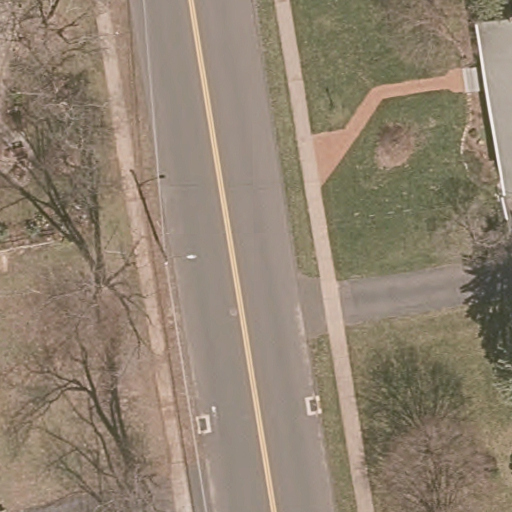DT: (158, 241, 197, 266)
